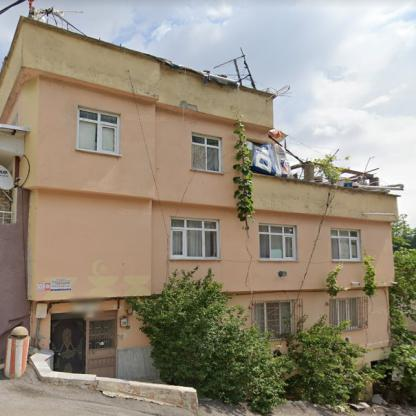door: (50, 313, 86, 373), (87, 311, 116, 377)
window: (170, 217, 219, 258), (77, 107, 119, 154), (258, 224, 296, 260), (255, 302, 291, 334), (192, 134, 222, 172), (332, 228, 361, 260), (329, 298, 358, 330)
